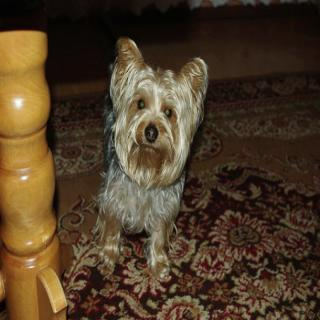dog: (109, 33, 209, 188)
nose: (142, 119, 162, 143)
